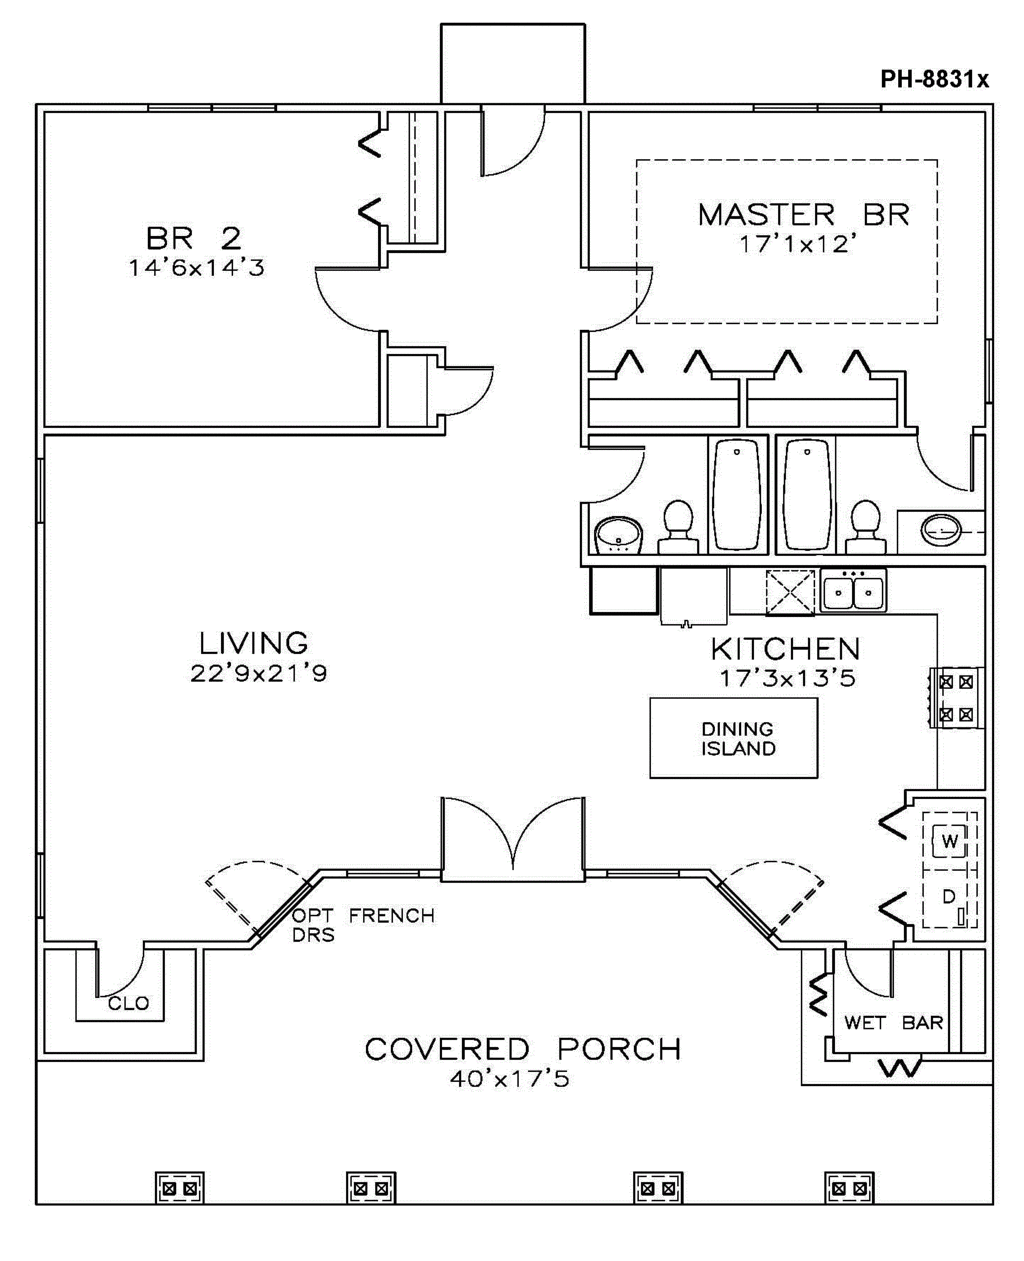door: (426, 789, 608, 889), (160, 860, 310, 935), (724, 839, 824, 939), (305, 253, 410, 337), (478, 89, 558, 191), (581, 255, 674, 331), (905, 430, 987, 497), (428, 355, 495, 424), (89, 941, 155, 1003), (585, 445, 655, 503), (839, 943, 903, 999)
large_sink: (841, 491, 891, 560), (651, 483, 699, 551)
small_sink: (887, 491, 991, 553), (587, 505, 658, 560)
tub: (772, 435, 843, 553), (706, 431, 768, 553)
twin_sink: (816, 558, 889, 618)
window: (745, 95, 885, 122), (152, 91, 290, 118), (18, 439, 59, 531), (976, 333, 1013, 406), (343, 864, 430, 889), (31, 847, 56, 920), (605, 868, 680, 883)
